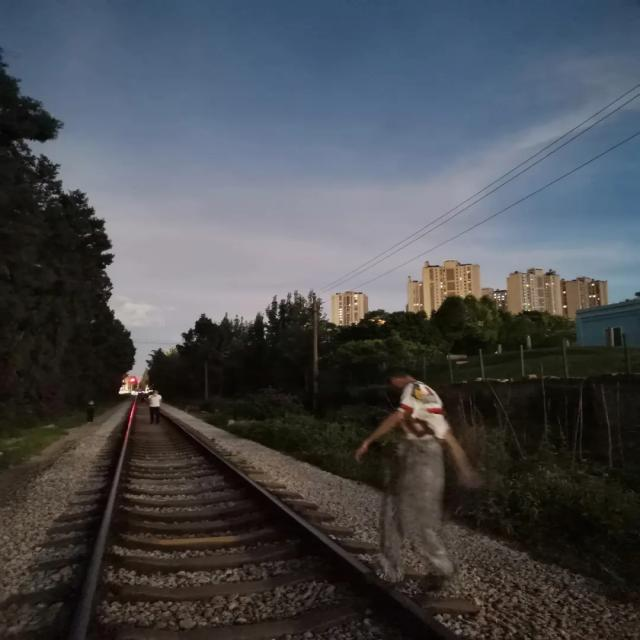people: (354, 361, 466, 585), (146, 382, 166, 432)
